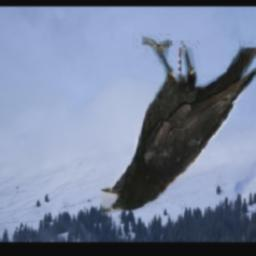Crow: (98, 34, 256, 217)
